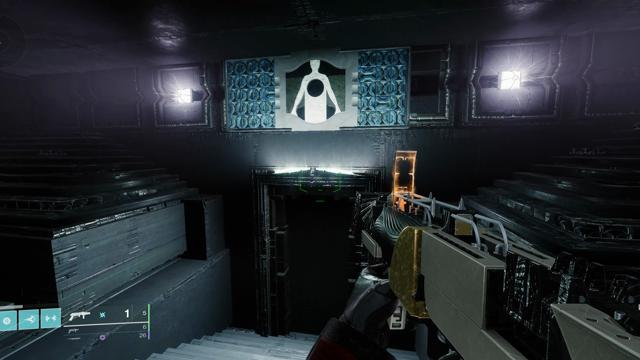grief: (286, 59, 345, 123)
